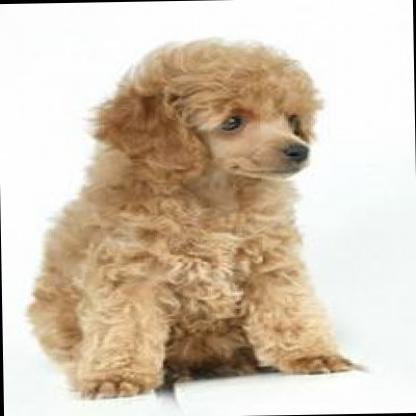miniature_poodle: (16, 28, 356, 404)
